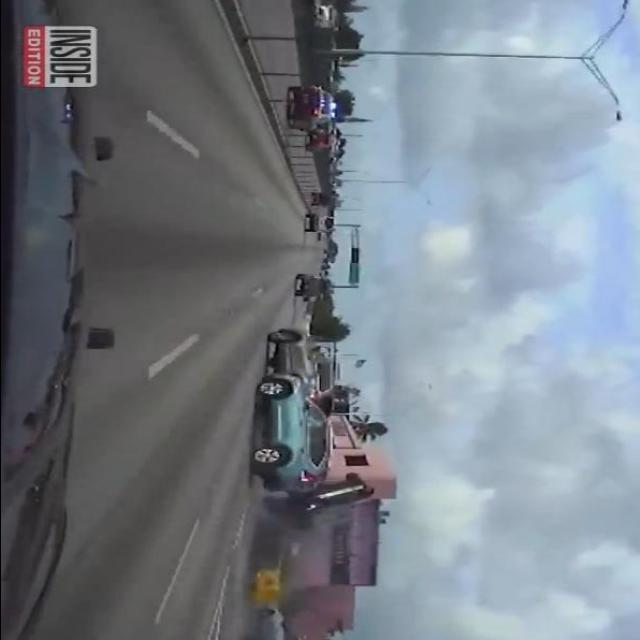accident: (235, 322, 345, 483), (268, 479, 378, 529)
